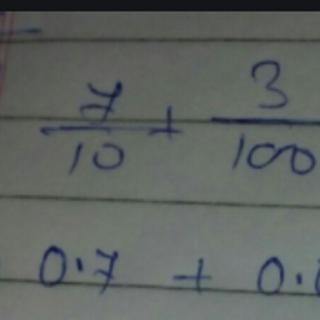.: (289, 270, 308, 286), (72, 256, 88, 271)
0: (38, 242, 66, 288), (258, 254, 285, 297), (93, 143, 128, 172), (248, 138, 279, 170), (291, 144, 314, 176)
1: (230, 133, 247, 171), (68, 139, 84, 177)
3: (250, 55, 290, 113)
7: (80, 78, 127, 128), (92, 251, 125, 292)
